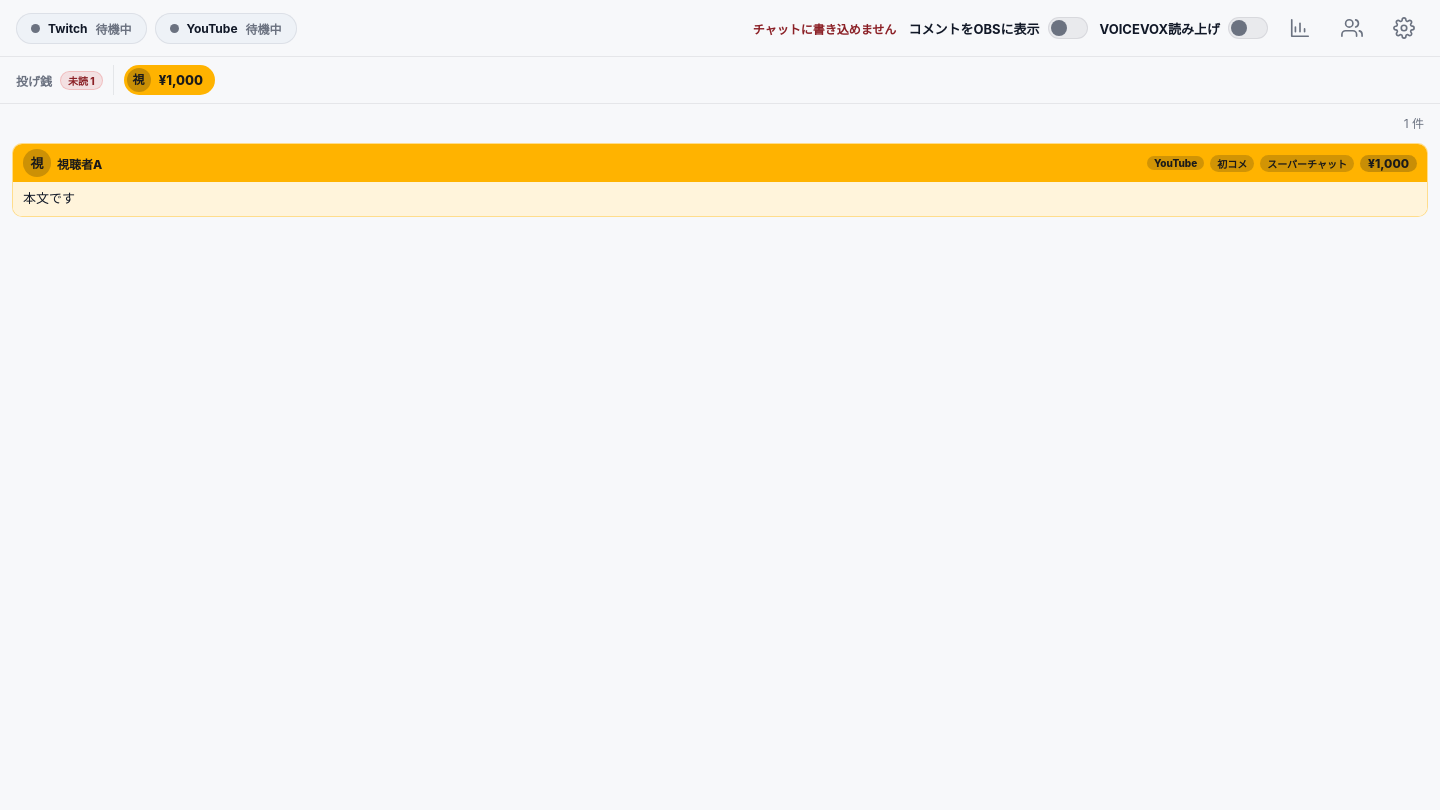
it: 063f: ガチャの当選をチャットへ自動送信する › ⚠⚠⚠ S-2b: 期待値は、画面のチャンネル入力が描いている値そのもの
The image size is (1440, 810).
Note: 接続ピルを開くと、同じ `channel` state を描いている入力欄が出る。
Click the button "Twitch 待機中" at {"x": 81, "y": 28}, box top-left (16, 12), bottom-right (146, 44)
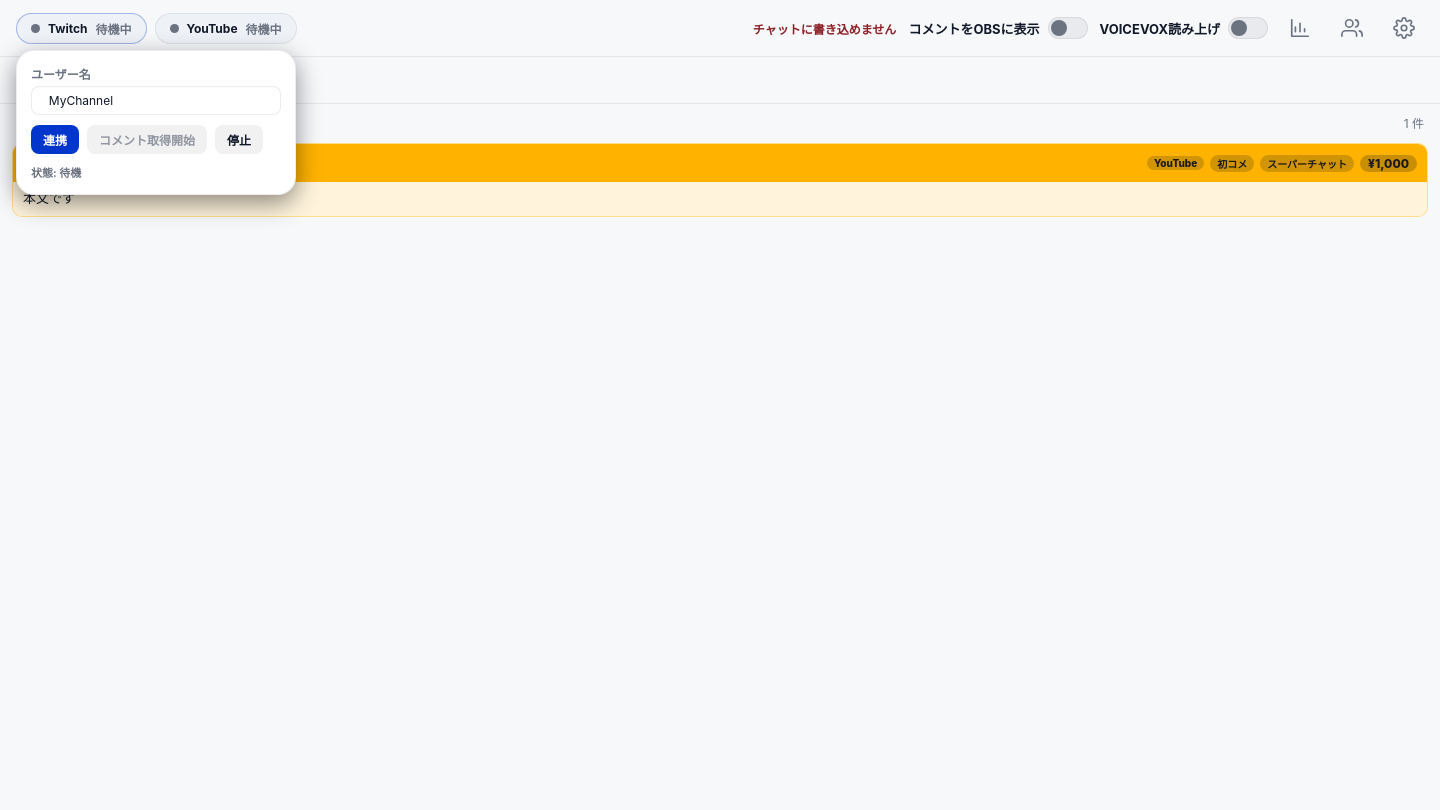
Expected: the field labelled "ユーザー名" holds "  MyChannel  ", top-left (31, 86), bottom-right (281, 114)
